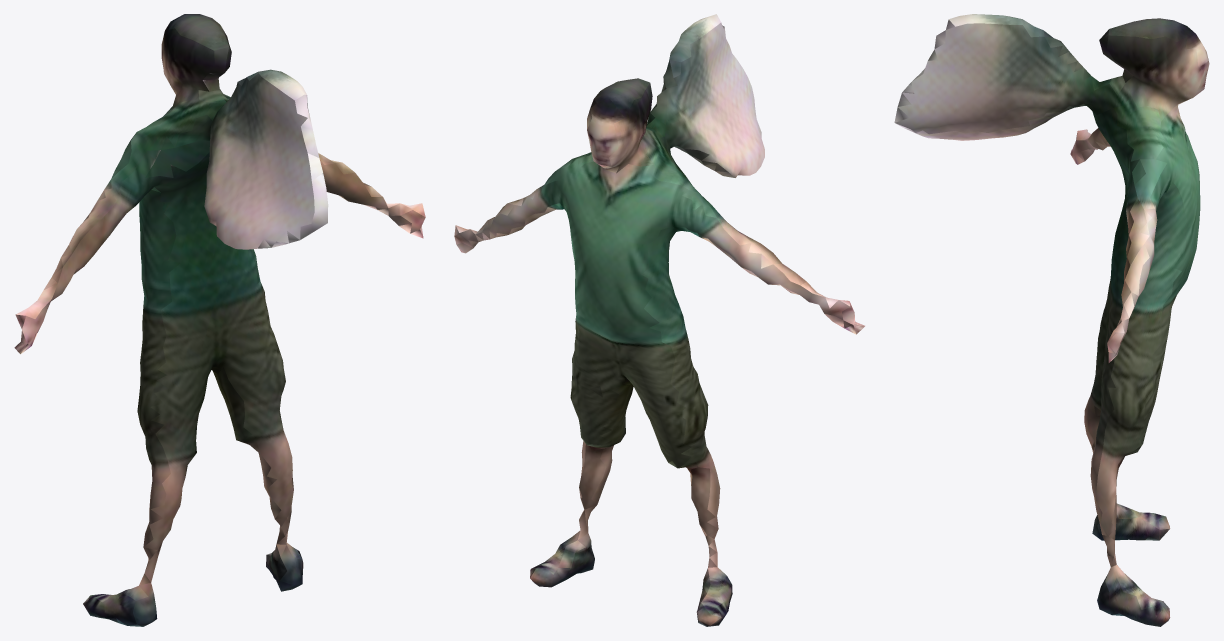
The picture shows the model from 3 angles, left to right: view 1: azimuth 30°, elevation 25°; view 2: azimuth 150°, elevation 25°; view 3: azimuth 270°, elevation 25°; orthographic projection. The views are drawn at different scales.
Parts seen in each view (by area): view 1: world; view 2: world; view 3: world.
Boxes of the visible parts, x1=… form: world: x1=14, y1=14, x2=425, y2=626; world: x1=454, y1=14, x2=864, y2=626; world: x1=894, y1=14, x2=1209, y2=626.
Size of the model in its own units: 0.7803 by 1 by 0.5034.
1 material, 1 textured.
